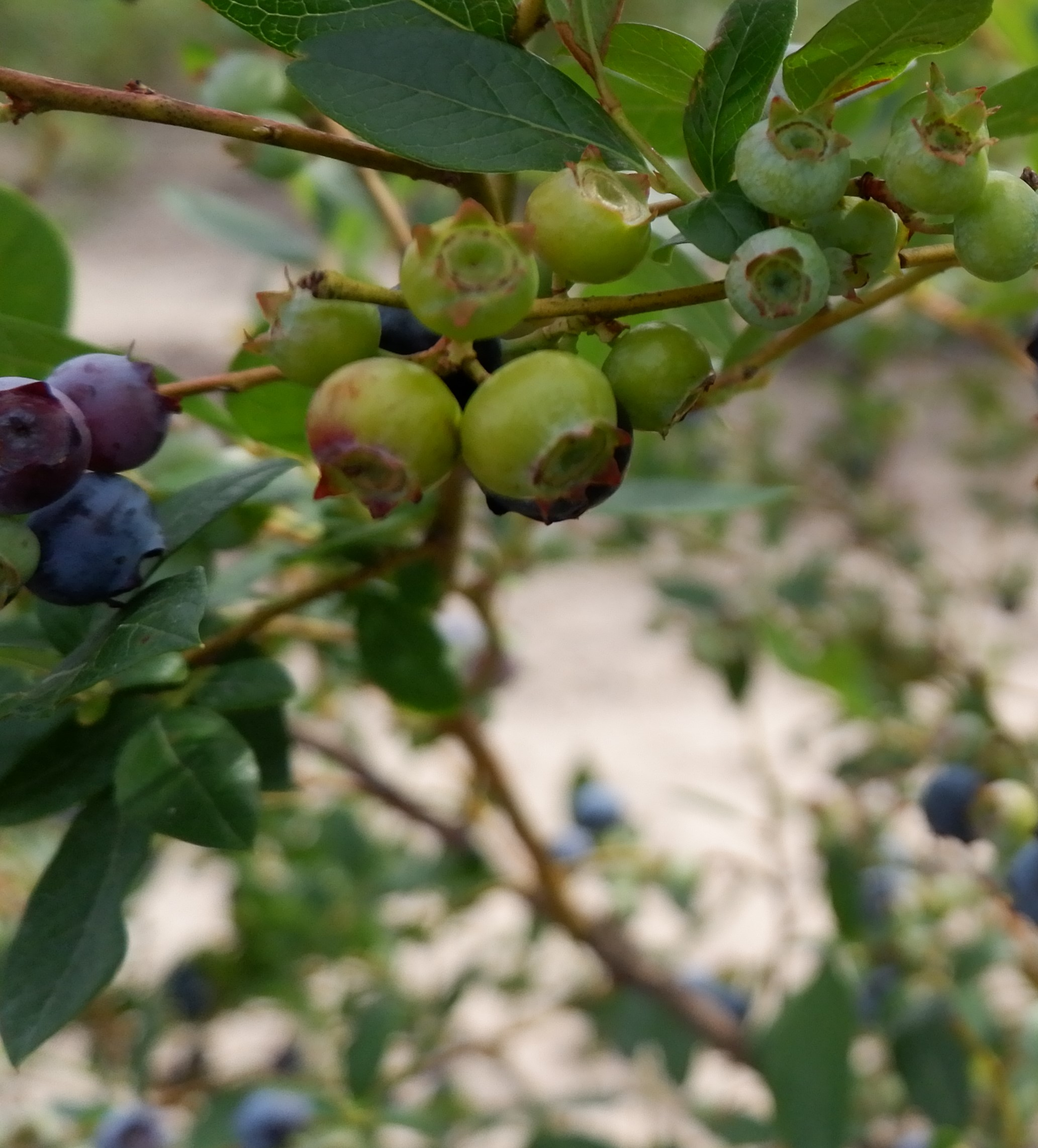Immature: (462, 352, 616, 503), (308, 356, 458, 507), (400, 199, 535, 335), (529, 158, 650, 279), (739, 96, 848, 218), (253, 282, 379, 384), (890, 92, 987, 213), (608, 323, 711, 429), (790, 195, 898, 288), (728, 228, 827, 325), (954, 171, 1036, 276), (893, 60, 986, 137), (826, 250, 874, 305)
Mature: (481, 409, 634, 525), (27, 475, 161, 602), (379, 283, 503, 412), (54, 354, 173, 467), (0, 379, 87, 509)
